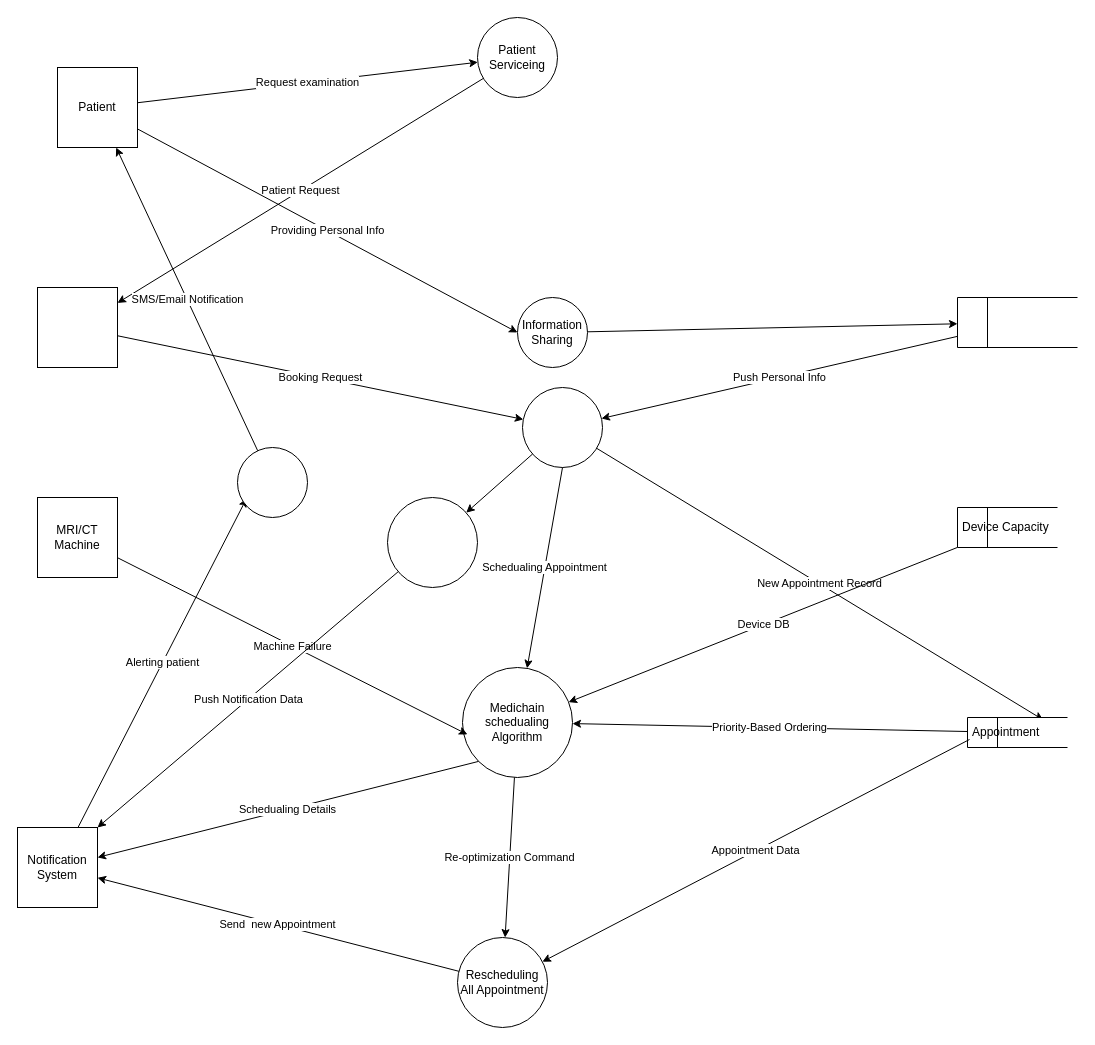
The diagram is 1095 pixels wide and 1045 high, and some of its shapes have lost their labels. The shapes that lost their labels are listed below. From the top down, each one's centre as x and y in pixels, then its label:
the point at 77,327: Administrative staff
the point at 1017,322: Patient store
the point at 562,427: Creating appointment
the point at 272,482: Send Alerts
the point at 432,542: Notification process
